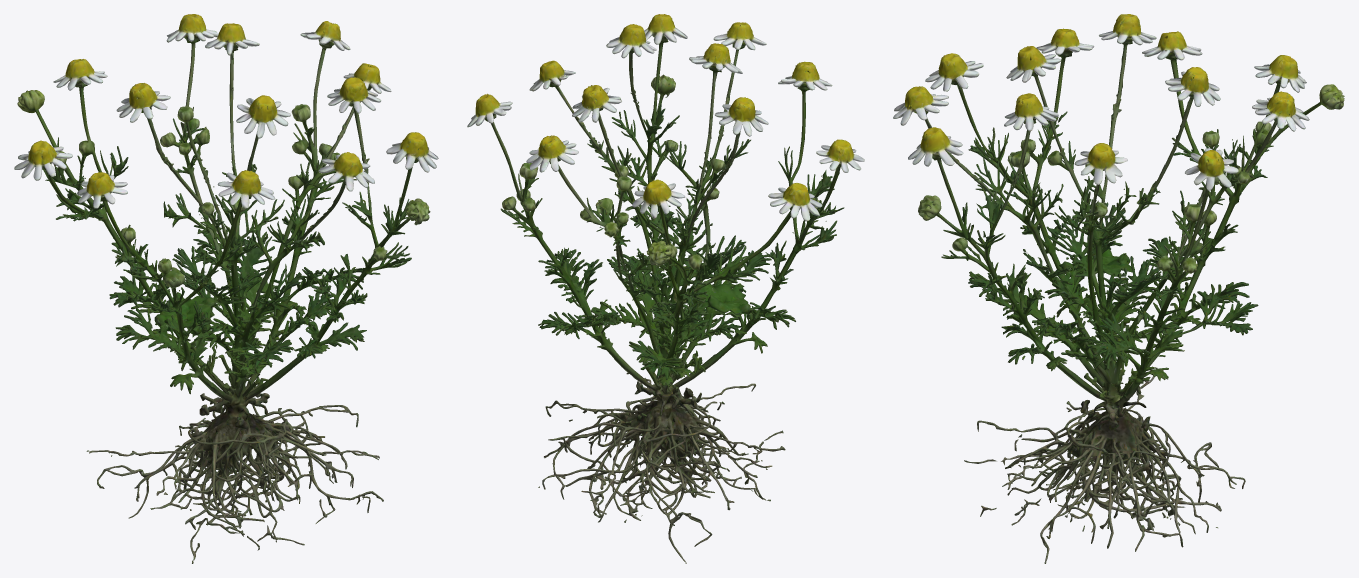
The model's file is manzanilla.glb.
3 renders of one model, left to right at view 1: azimuth 30°, elevation 25°; view 2: azimuth 150°, elevation 25°; view 3: azimuth 270°, elevation 25°, orthographic. The views are drawn at different scales.
Visible parts, largest first — view 1: geometry_0; view 2: geometry_0; view 3: geometry_0.
Part boxes in pixels (x1,y1,x2,y2): geometry_0: (14, 14, 438, 563); geometry_0: (467, 14, 864, 563); geometry_0: (893, 14, 1344, 563).
Bounding box in the file's own units: 0.7614 × 0.9975 × 0.8398.
1 material, 1 textured.
